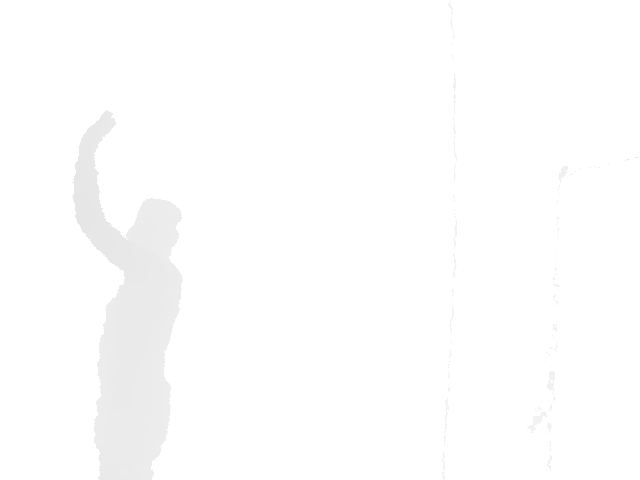hand: (78, 109, 117, 153)
head: (124, 197, 183, 260)
person: (71, 109, 184, 479)
